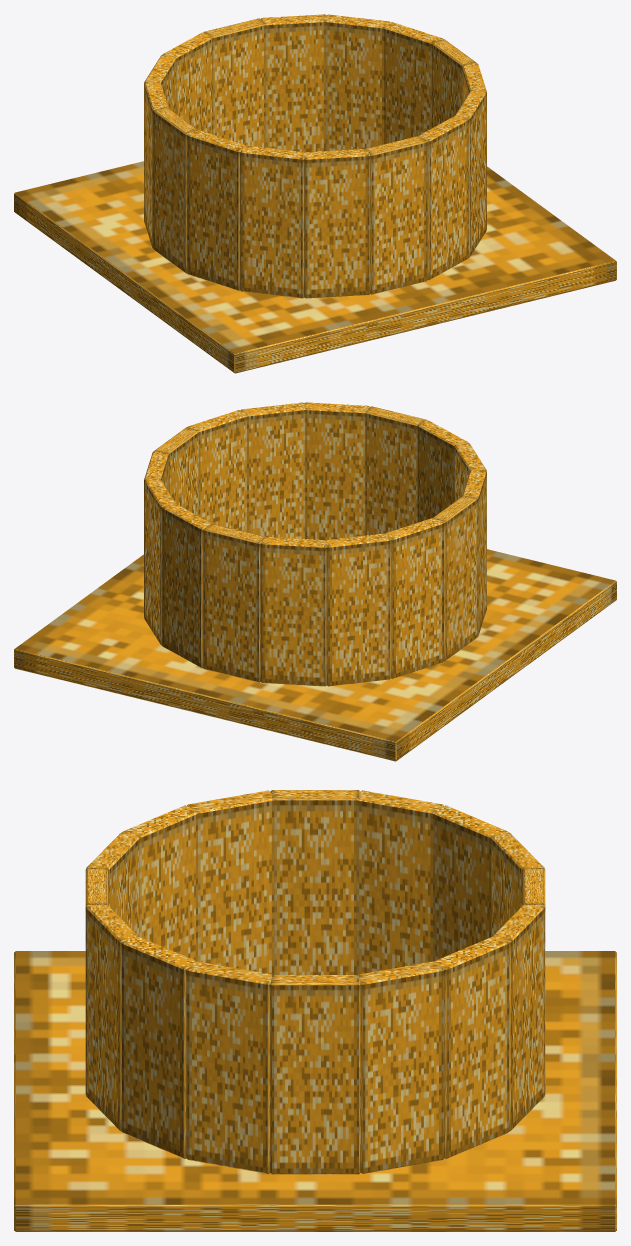
The model's file is env_core.fbx.
The picture shows the model from 3 angles, top to bottom: view 1: azimuth 30°, elevation 25°; view 2: azimuth 150°, elevation 25°; view 3: azimuth 270°, elevation 25°; orthographic projection. The views are drawn at different scales.
Parts seen in each view (by area): view 1: env_core; view 2: env_core; view 3: env_core.
Boxes of the visible parts, box(x1,y1,x2,y2) form: env_core: box(14, 14, 616, 373); env_core: box(14, 402, 616, 761); env_core: box(14, 790, 616, 1231).
Bounding box in the file's own units: 80 × 32 × 80.
Materials: 2 (1 with a texture image).
